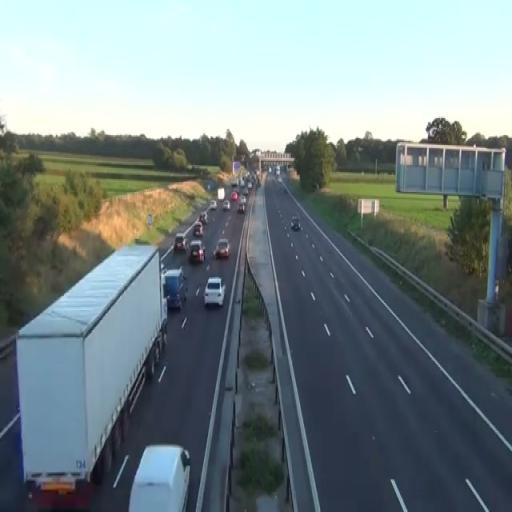Car: (128, 443, 192, 512), (204, 277, 226, 308), (188, 238, 205, 264), (215, 238, 231, 260), (174, 234, 186, 252), (291, 215, 301, 230)
Truck: (15, 241, 168, 499)
